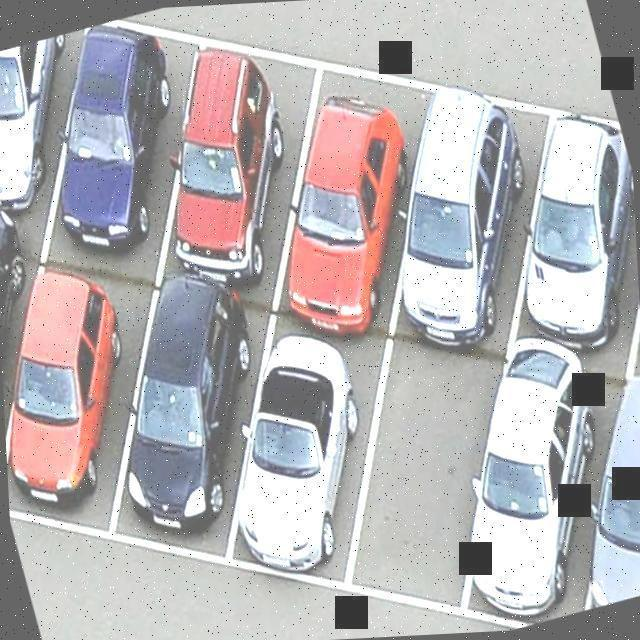empty: (301, 329, 539, 633)
occupied: (183, 313, 425, 608), (75, 275, 308, 558), (11, 5, 245, 273), (247, 71, 478, 337), (420, 357, 640, 634), (357, 71, 580, 332), (0, 255, 197, 537), (131, 51, 358, 291), (480, 128, 640, 367), (0, 32, 107, 233), (544, 403, 640, 610), (0, 214, 72, 471)
